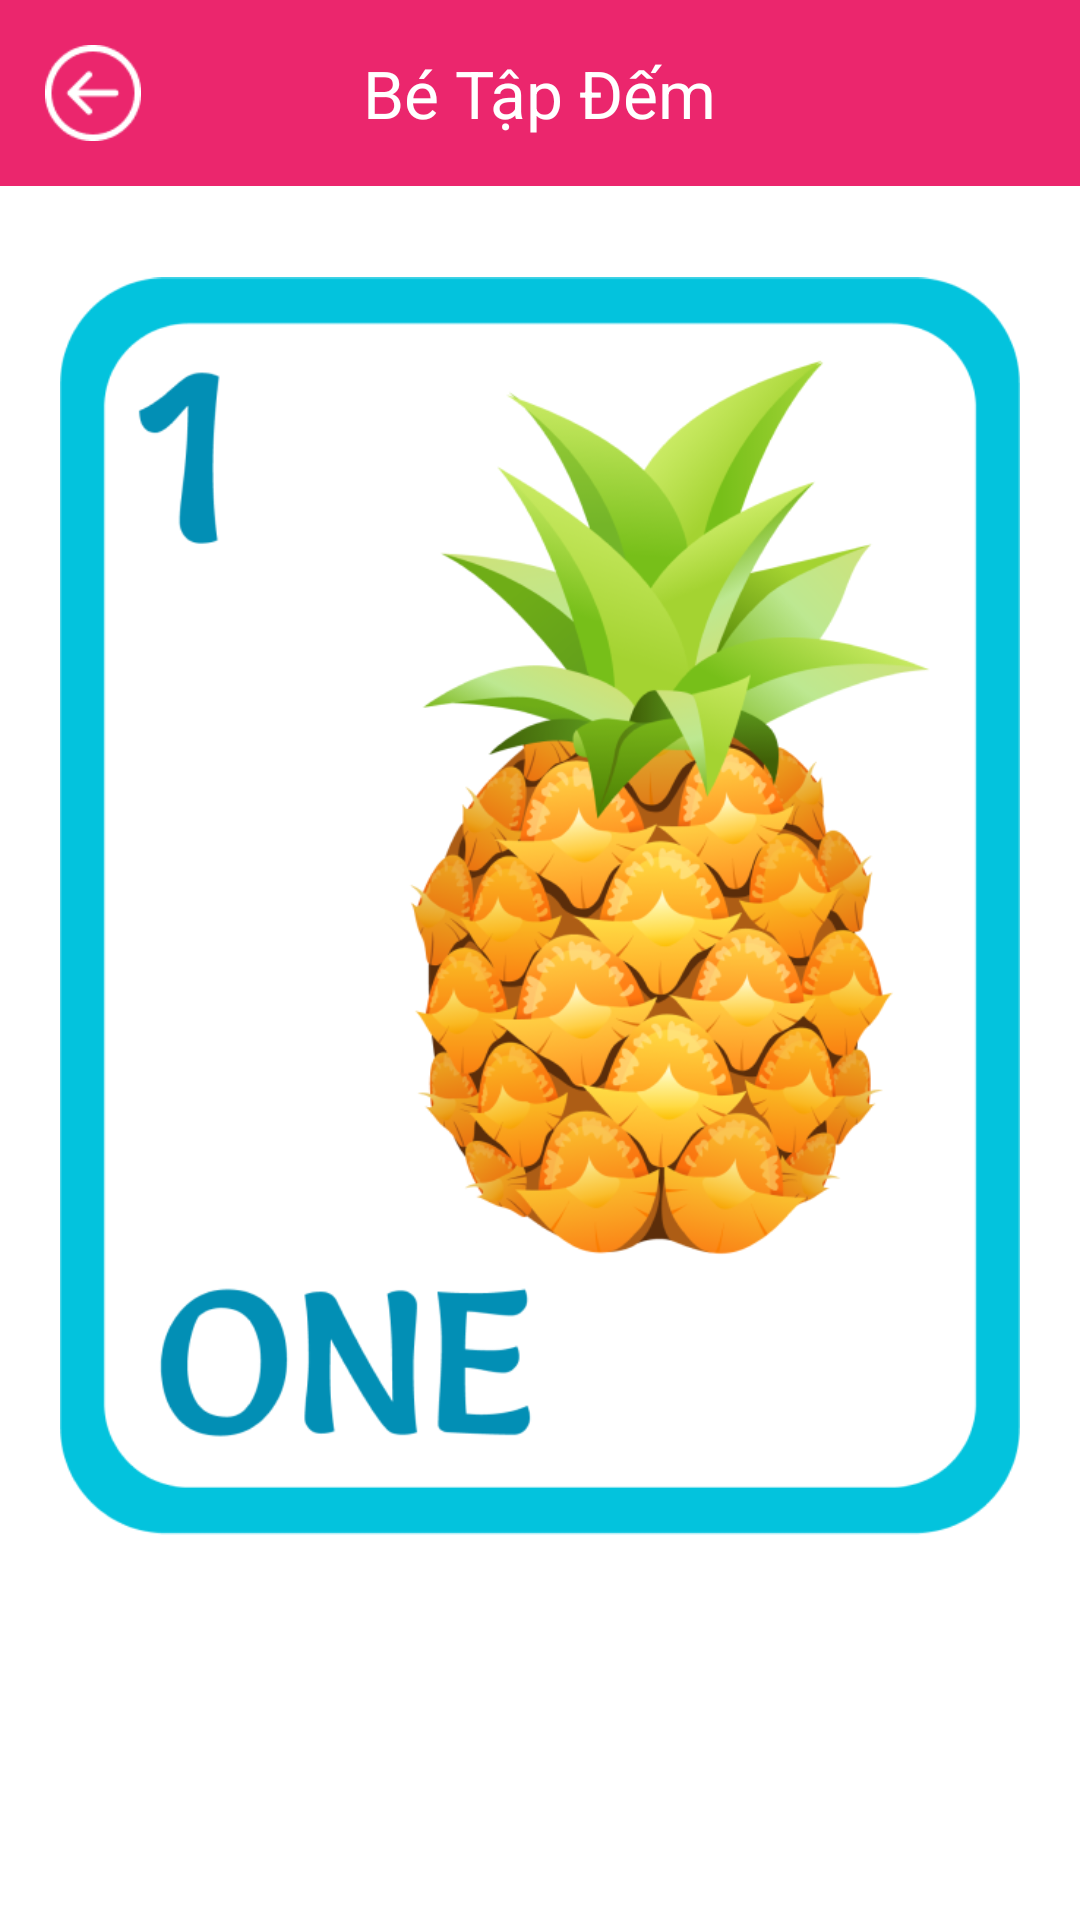

Named icons in this screenshot (1080px×1920px) and their bounding boxes, [x1=x1, y1=y1, x2=x2, y2=y2]:
back: [x1=45, y1=45, x2=141, y2=141]
